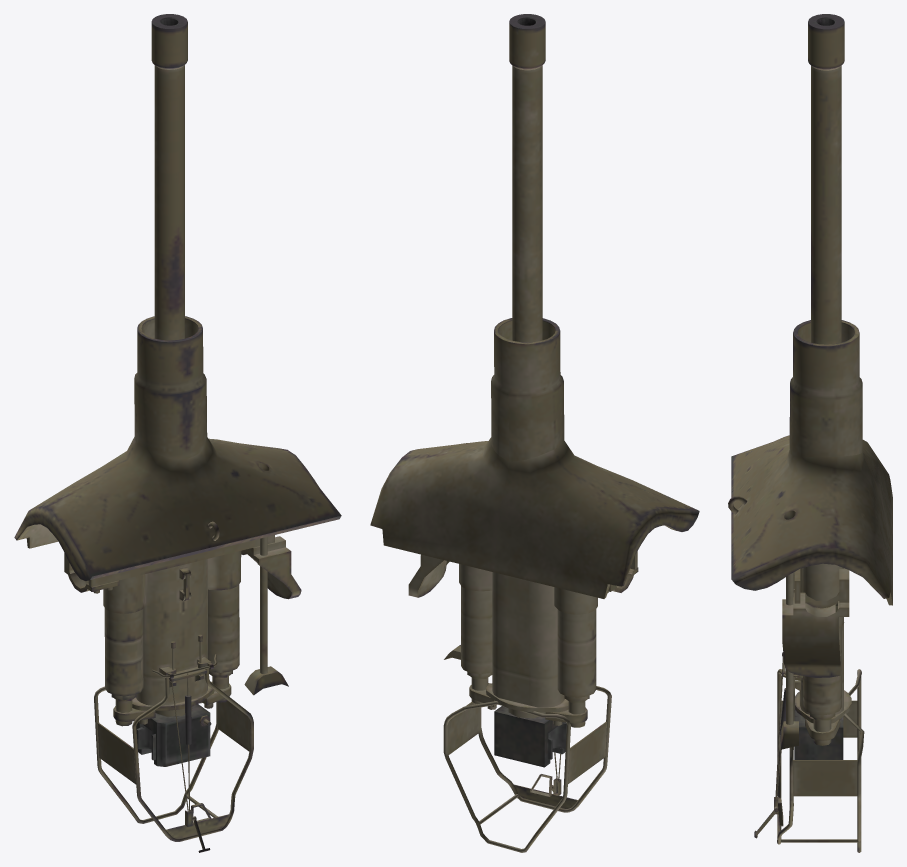
File: Gun_03.glb
3 views of the same model, side by side, from view 1: azimuth 30°, elevation 25°; view 2: azimuth 150°, elevation 25°; view 3: azimuth 270°, elevation 25° (orthographic).
Visible parts, largest first — view 1: set_0_group_0; view 2: set_0_group_0; view 3: set_0_group_0.
Boxes of the visible parts, box(x1,y1,x2,y2) form: set_0_group_0: box(14, 14, 341, 852); set_0_group_0: box(370, 14, 699, 852); set_0_group_0: box(728, 14, 892, 852).
Size of the model in its own units: 0.945 by 2.94 by 0.5343.
1 material, 1 textured.
